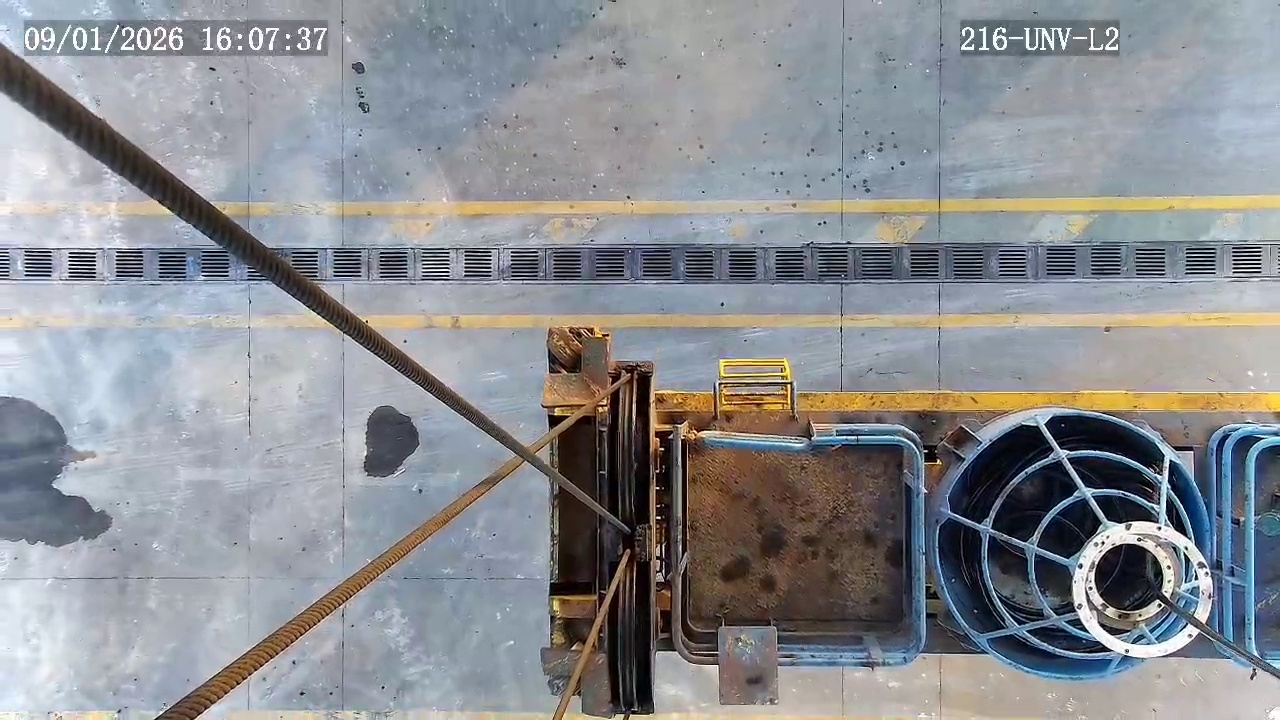left: (1072, 522, 1213, 659)
